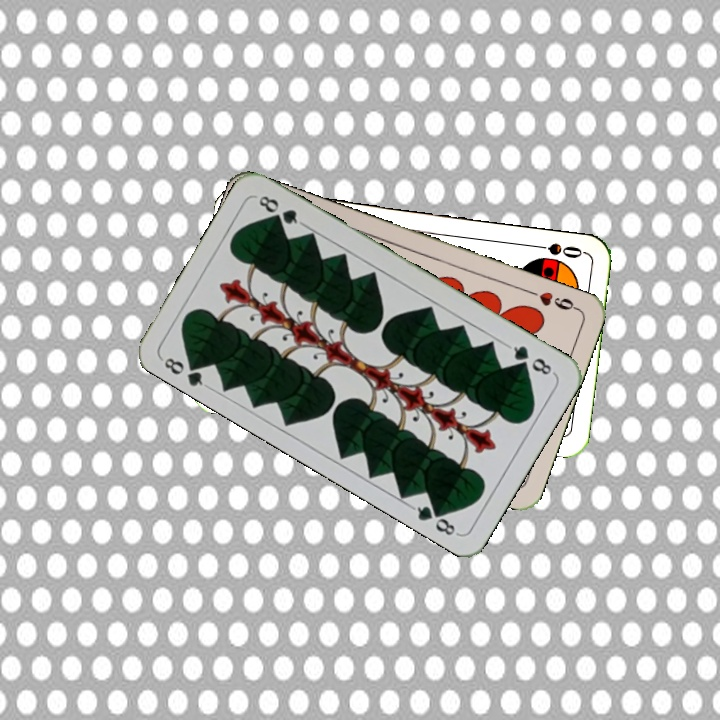G8: (157, 353, 211, 391), (503, 341, 557, 378)
H9: (524, 286, 581, 313)
SO: (527, 239, 586, 261)
